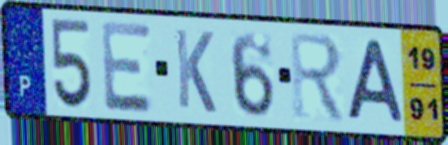5: (48, 17, 92, 112)
6: (228, 29, 277, 120)
A: (344, 36, 408, 127)
E: (98, 18, 156, 115)
K: (172, 25, 219, 117)
R: (287, 29, 349, 126)
